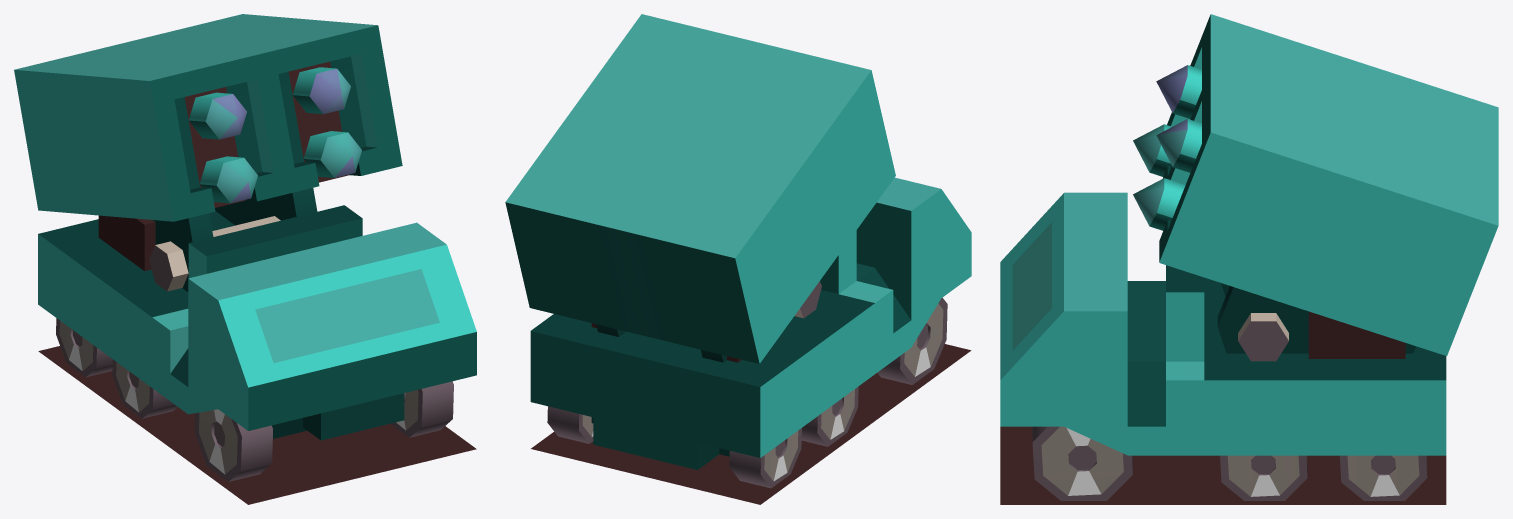
File: RocketMesh.TealGalaxy.glb
The picture shows the model from 3 angles, left to right: view 1: azimuth 30°, elevation 25°; view 2: azimuth 150°, elevation 25°; view 3: azimuth 270°, elevation 25°; orthographic projection. The views are drawn at different scales.
Parts seen in each view (by area): view 1: RocketMesh.TealGalaxy; view 2: RocketMesh.TealGalaxy; view 3: RocketMesh.TealGalaxy.
Part boxes in pixels (x1,y1,x2,y2): RocketMesh.TealGalaxy: [14, 14, 476, 504]; RocketMesh.TealGalaxy: [505, 14, 971, 504]; RocketMesh.TealGalaxy: [1000, 14, 1498, 504].
Size of the model in its own units: 1.1 by 1.63 by 1.96.
1 material, 1 textured.
